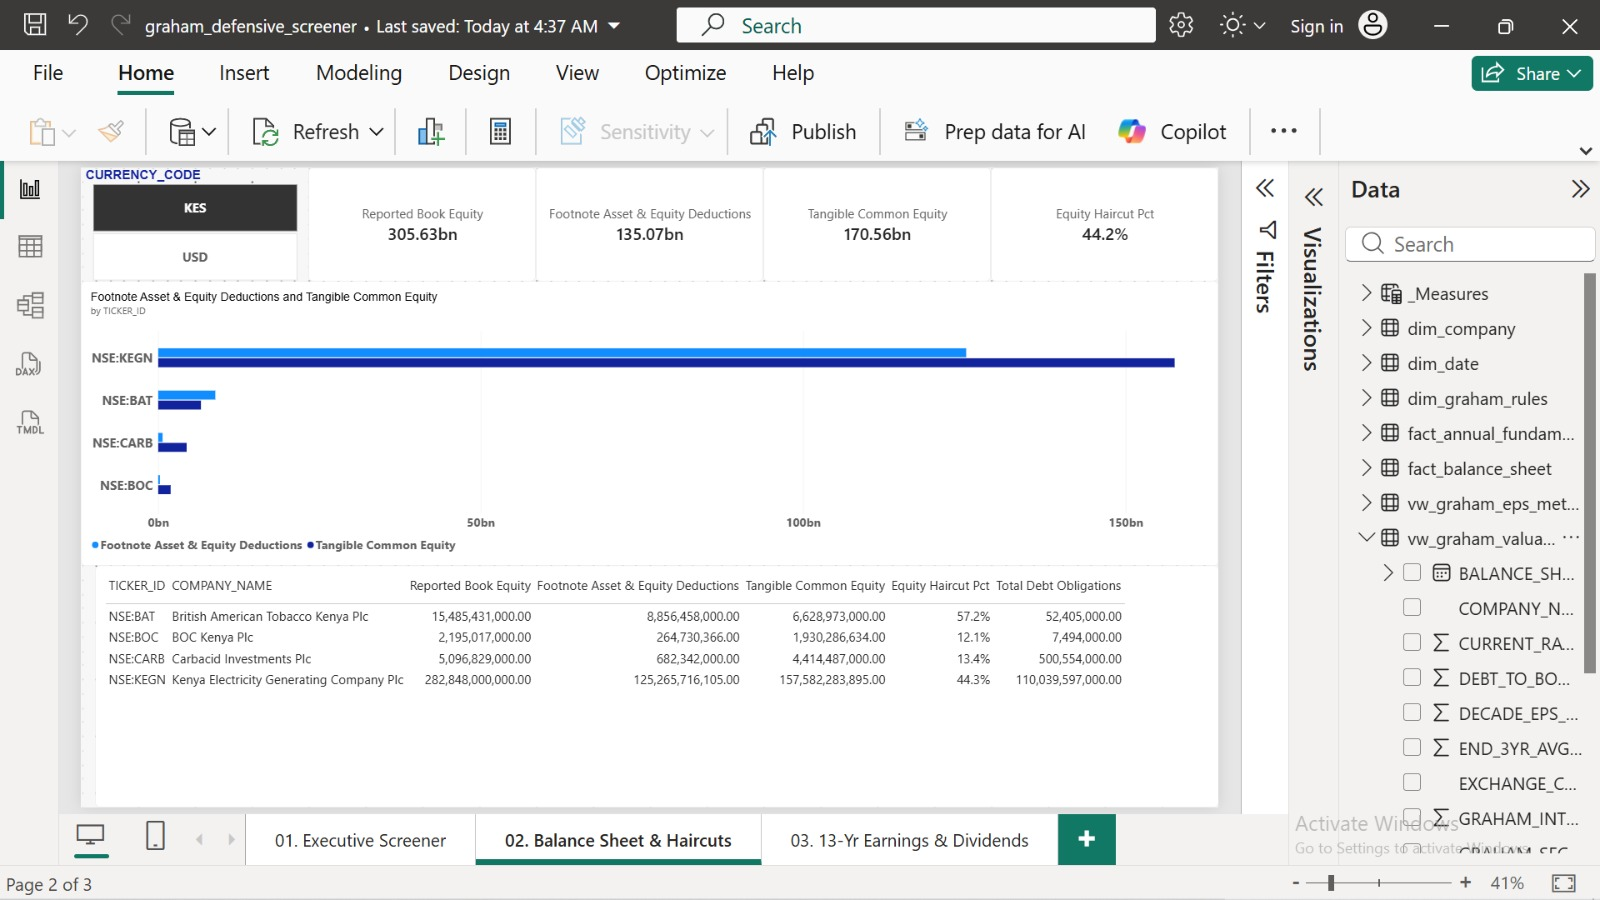

What the dashboard file says about the page in this screenshot:
{"tool":"powerbi","page":{"name":"02. Balance Sheet & Haircuts","canvas":[1920,1080],"ordinal":1},"visuals":[{"type":"slicer","fields":{"Values":["dim_company.CURRENCY_CODE"]},"box":[0,0,384,192],"z":0},{"type":"cardVisual","fields":{"Data":["_Measures.Footnote Asset & Equity Deductions"]},"box":[768,0,384,192],"z":1},{"type":"cardVisual","fields":{"Data":["_Measures.Tangible Common Equity"]},"box":[1152,0,384,192],"z":2},{"type":"cardVisual","fields":{"Data":["_Measures.Equity Haircut Pct"]},"box":[1536,0,384,192],"z":3},{"type":"cardVisual","fields":{"Data":["_Measures.Reported Book Equity"]},"box":[384,0,384,192],"z":4},{"type":"clusteredBarChart","fields":{"Category":["dim_company.TICKER_ID"],"Y":["_Measures.Footnote Asset & Equity Deductions","_Measures.Tangible Common Equity"]},"box":[0,192,1920,480],"z":5},{"type":"tableEx","fields":{"Values":["dim_company.TICKER_ID","dim_company.COMPANY_NAME","_Measures.Reported Book Equity","_Measures.Footnote Asset & Equity Deductions","_Measures.Tangible Common Equity","_Measures.Equity Haircut Pct","_Measures.Total Debt Obligations"]},"box":[24,672,1896,408],"z":6}]}

Visuals, with their boxes on the page's 1920x1080 design canvas (x1, y1, x2, y2). These are canvas units, not pixel positions in the 1600x900 screenshot, which may show the page scaled, cropped or inside an application window:
slicer - dim_company.CURRENCY_CODE: [0, 0, 384, 192]
cardVisual - _Measures.Footnote Asset & Equity Deductions: [768, 0, 1152, 192]
cardVisual - _Measures.Tangible Common Equity: [1152, 0, 1536, 192]
cardVisual - _Measures.Equity Haircut Pct: [1536, 0, 1920, 192]
cardVisual - _Measures.Reported Book Equity: [384, 0, 768, 192]
clusteredBarChart - dim_company.TICKER_ID x _Measures.Footnote Asset & Equity Deductions: [0, 192, 1920, 672]
tableEx - dim_company.TICKER_ID x dim_company.COMPANY_NAME: [24, 672, 1920, 1080]
